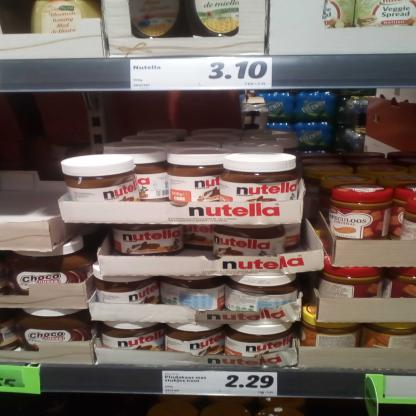prtg: (131, 58, 273, 91), (164, 371, 278, 398)
